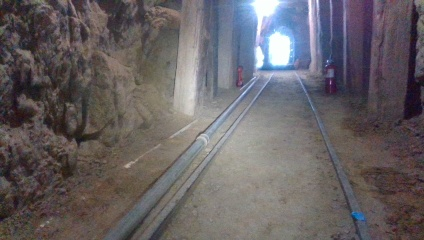drill: (235, 61, 245, 86)
fire_extinguisher: (322, 54, 338, 97)
manikin: (253, 33, 268, 69)
